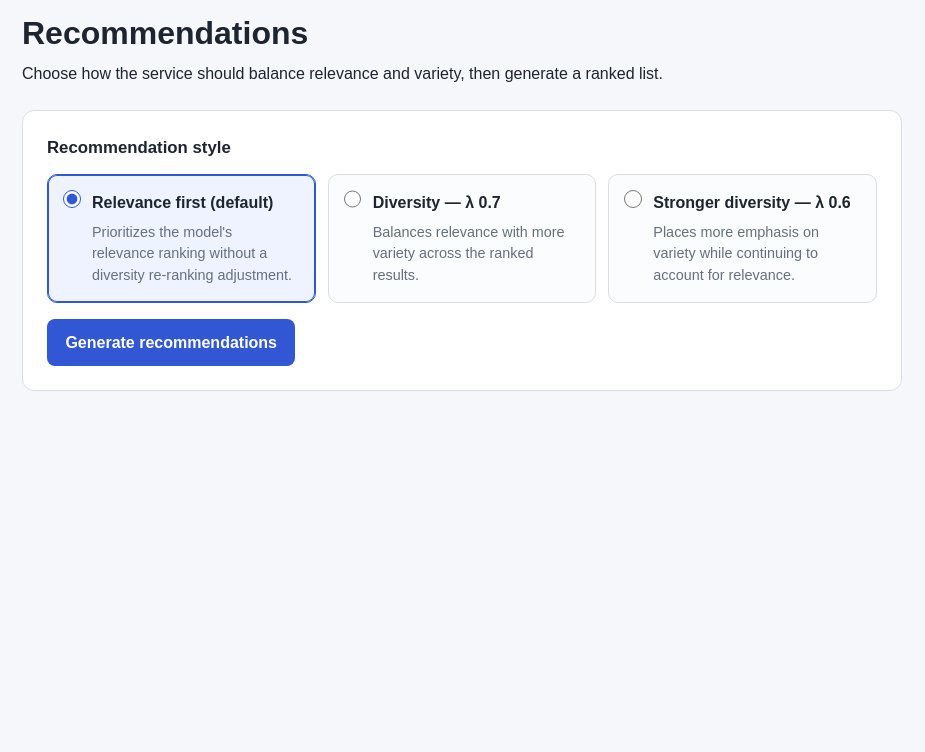
Test: selects Stronger diversity — λ 0\.6 without requesting and submits only its key
Click the 3rd radio button.
click(633, 199)  # box left=624, top=190, right=642, bottom=208
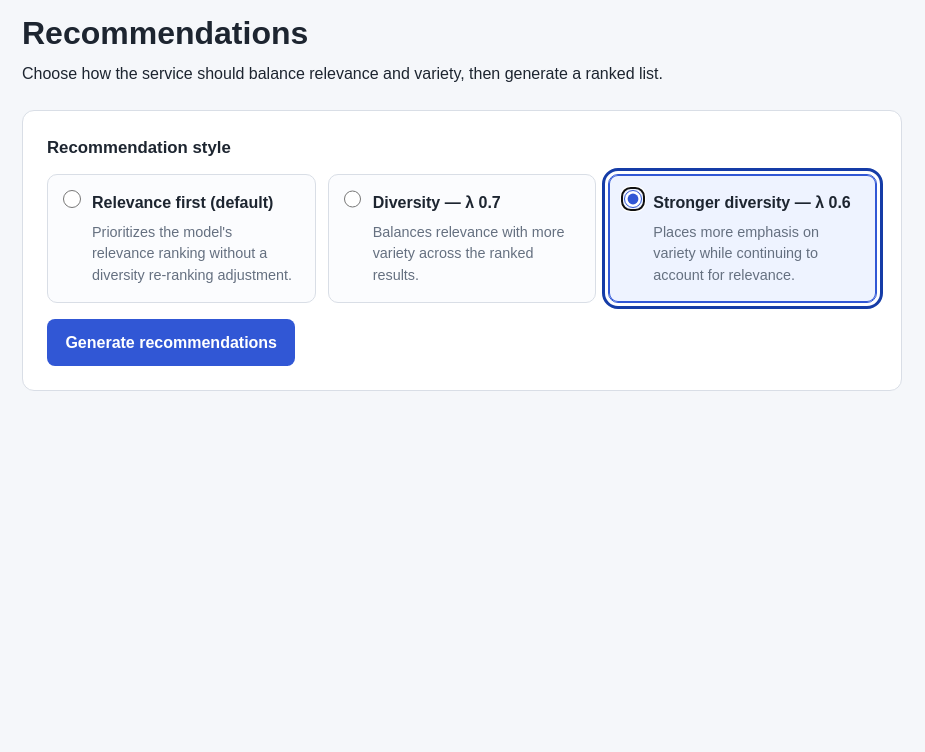
Click the button "Generate recommendations".
click(171, 343)  # box left=47, top=319, right=295, bottom=366
(page scrolled)
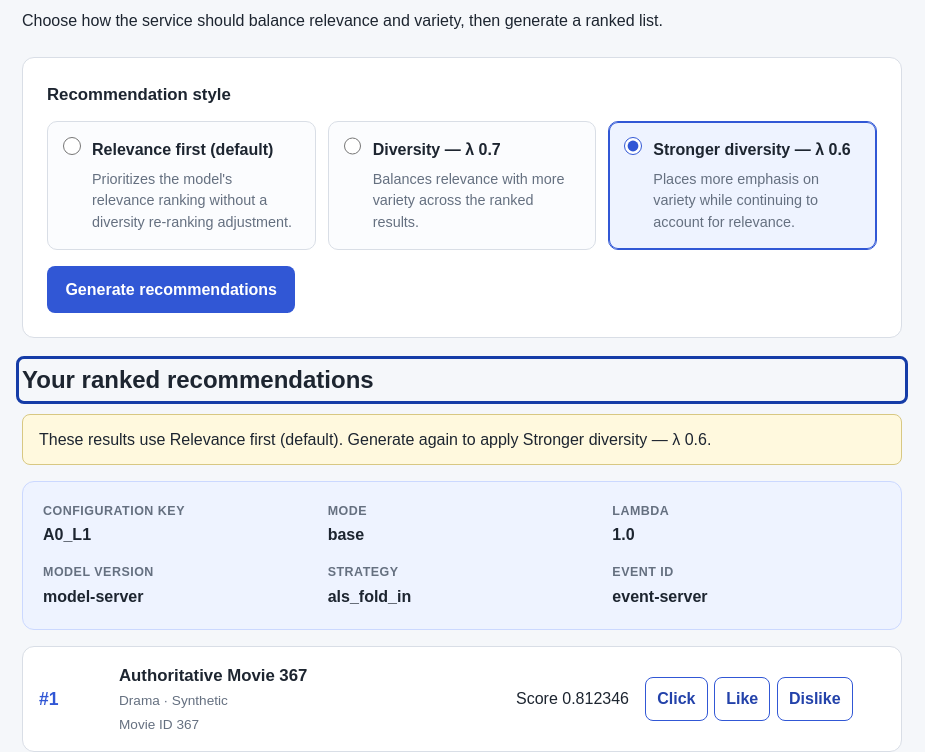
expect the text "Movie ID 367" is shown: met, box left=119, top=716, right=199, bottom=732
